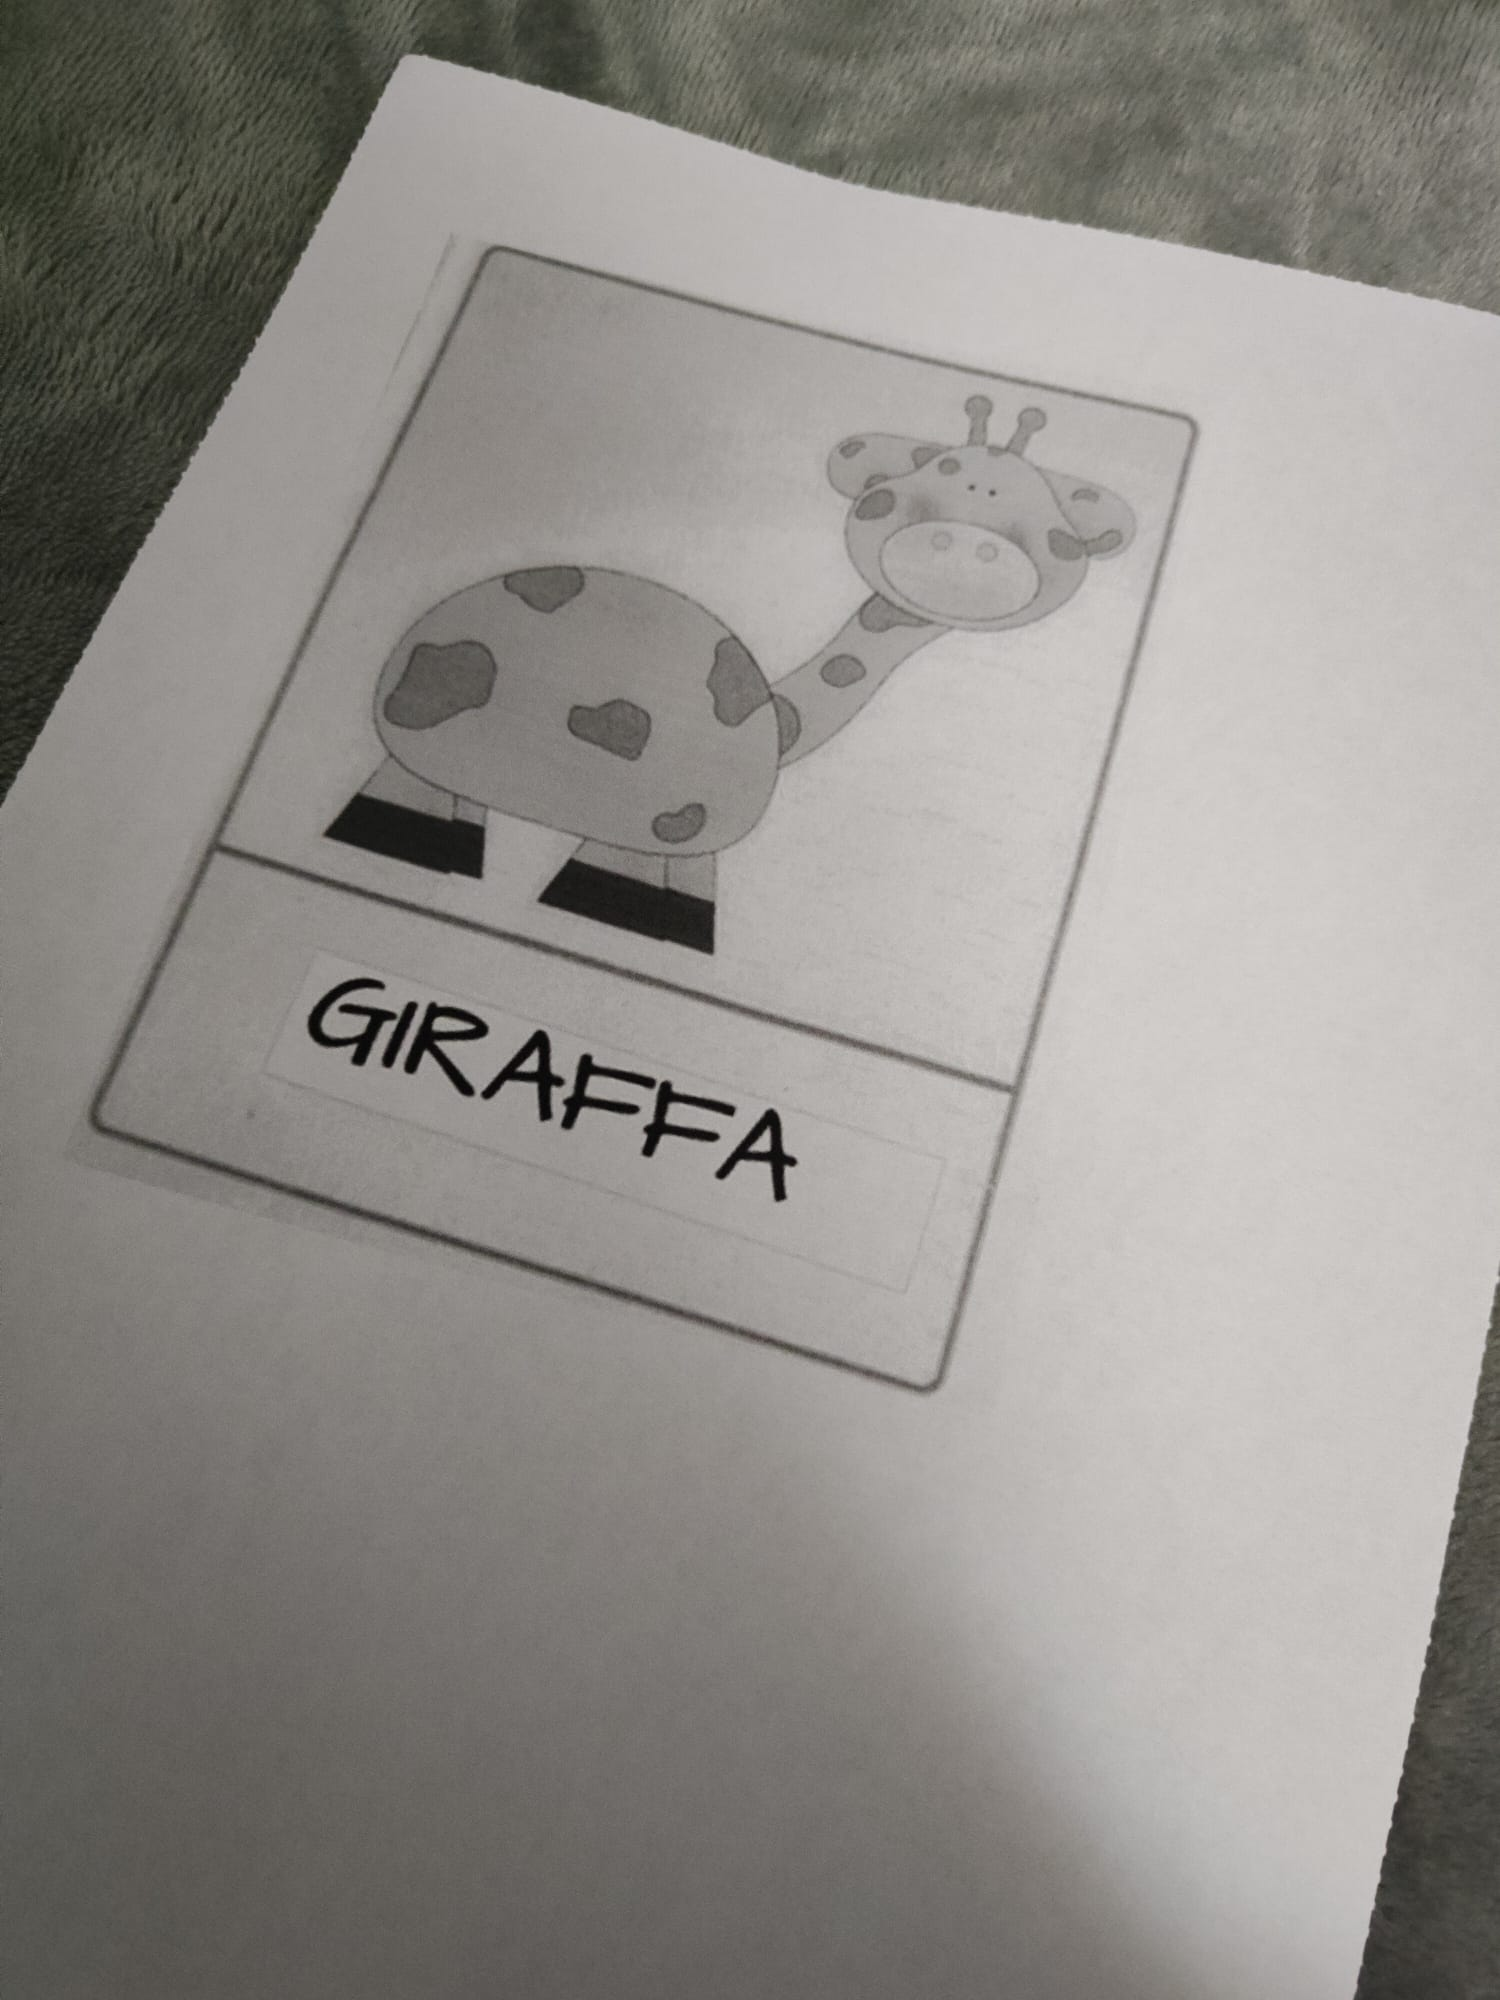giraffa: (273, 235, 1187, 1343)
